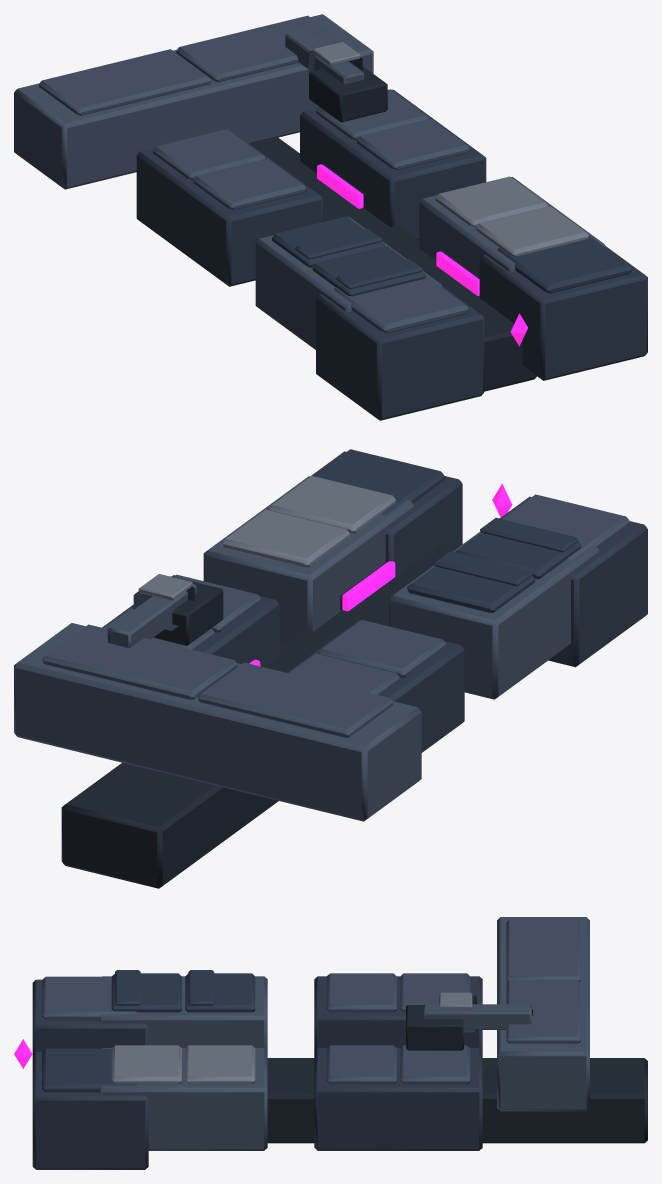
The model's file is 02_fregatte.glb.
The picture shows the model from 3 angles, top to bottom: view 1: azimuth 30°, elevation 25°; view 2: azimuth 150°, elevation 25°; view 3: azimuth 270°, elevation 25°; orthographic projection. The views are drawn at different scales.
Parts seen in each view (by area): view 1: Hull, weapon_3; view 2: Hull, weapon_3; view 3: Hull, weapon_3.
Part boxes in pixels (x1,y1,x2,y2): Hull: (14,14,647,420); weapon_3: (285,29,364,83); Hull: (14,449,647,888); weapon_3: (107,574,196,647); Hull: (32,917,647,1169); weapon_3: (423,992,532,1032).
Size of the model in its own units: 4.73 by 2.31 by 8.76.
